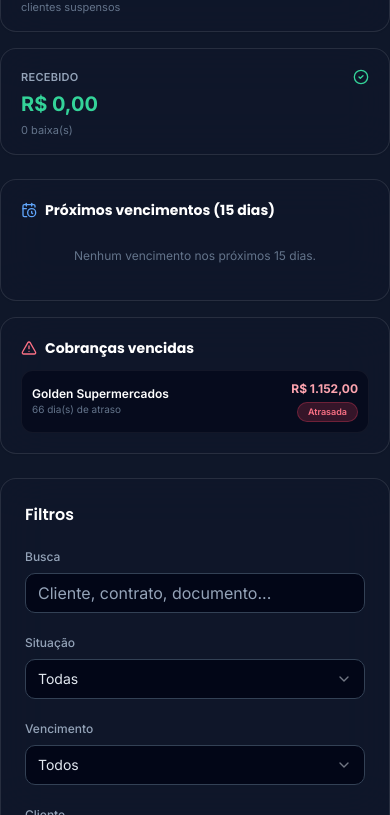
Central de Cobranças — navegação usa o código operacional › clique na cobrança navega para /financeiro/cobrancas/COB-2026-XXXXXX
(page scrolled)
Click the text "Golden Supermercados" at [100, 394], box [32, 386, 169, 402]
(page scrolled)
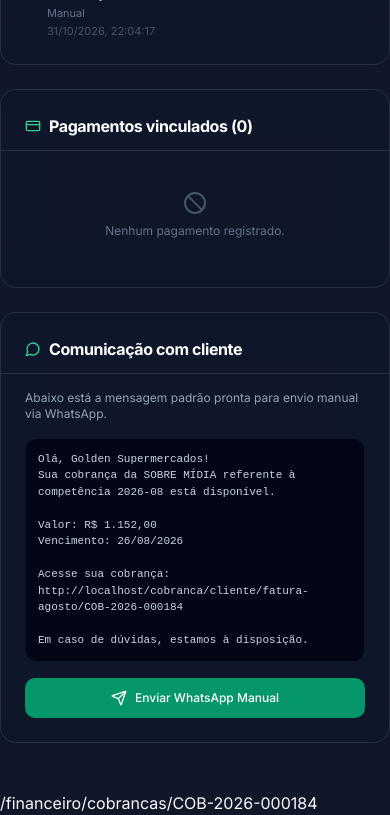
Check: the text with test id "location-probe" reads "/financeiro/cobrancas/COB-2026-000184", box [0, 792, 318, 812]
